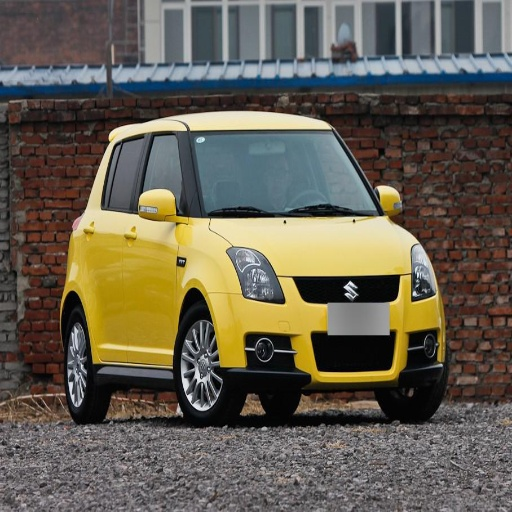front_bumper: (215, 272, 443, 382)
front_left_light: (411, 244, 438, 301)
front_right_door: (123, 131, 192, 360)
front_right_light: (226, 247, 284, 303)
hood: (208, 217, 414, 275)
